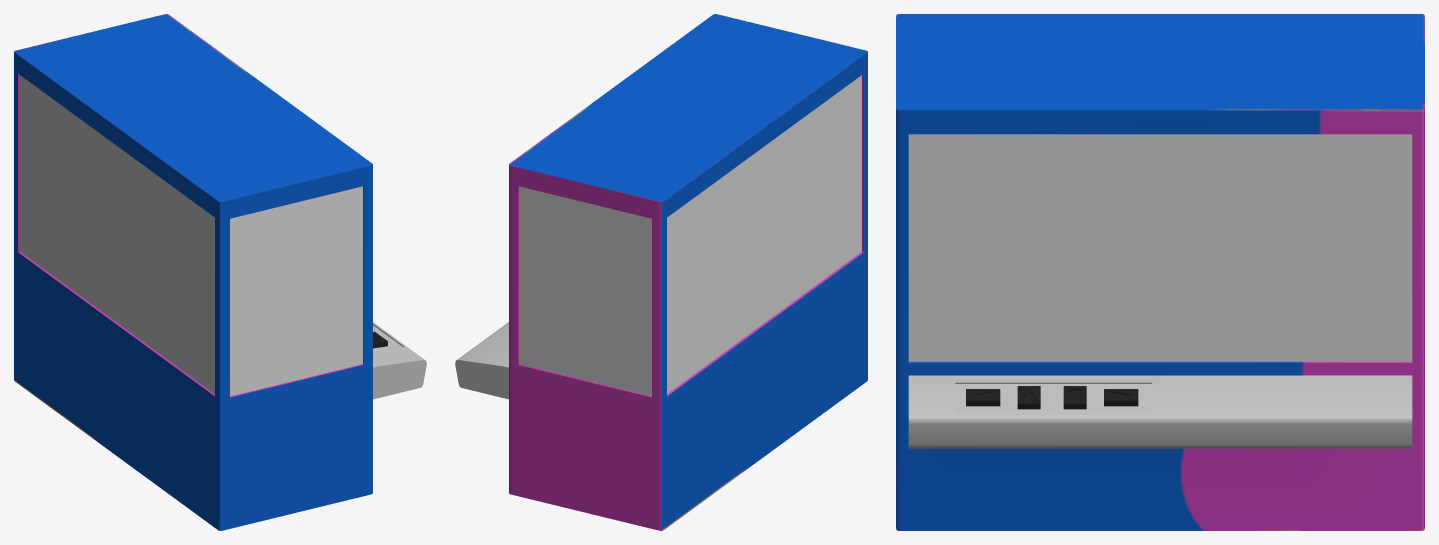
File: BubbleClowMachine (2).fbx
The picture shows the model from 3 angles, left to right: view 1: azimuth 30°, elevation 25°; view 2: azimuth 150°, elevation 25°; view 3: azimuth 270°, elevation 25°; orthographic projection. The views are drawn at different scales.
Parts seen in each view (by area): view 1: case, glass, control; view 2: case, glass, control; view 3: case, glass, control, des, sin.
Part boxes in pixels (x1,y1,x2,y2): case: (14, 14, 372, 530); glass: (20, 75, 362, 396); control: (373, 322, 426, 399); case: (509, 14, 867, 530); glass: (519, 75, 861, 396); control: (455, 322, 508, 399); case: (896, 14, 1424, 530); glass: (908, 134, 1412, 361); control: (908, 375, 1412, 448); des: (1104, 389, 1138, 406); sin: (966, 389, 1000, 406).
Size of the model in its own units: 230 by 202 by 136.
